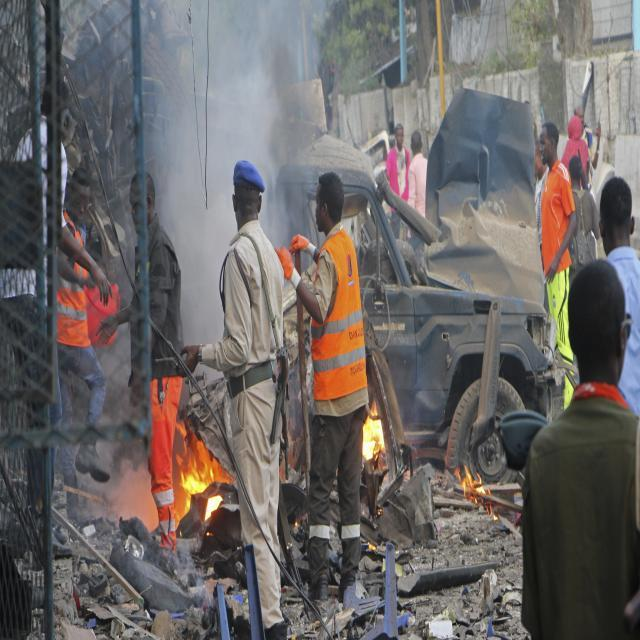Fire: (180, 458, 223, 518), (454, 464, 492, 514), (363, 400, 385, 458)
Smoke: (143, 0, 330, 162), (144, 165, 234, 342), (264, 165, 314, 273), (108, 463, 152, 521)
